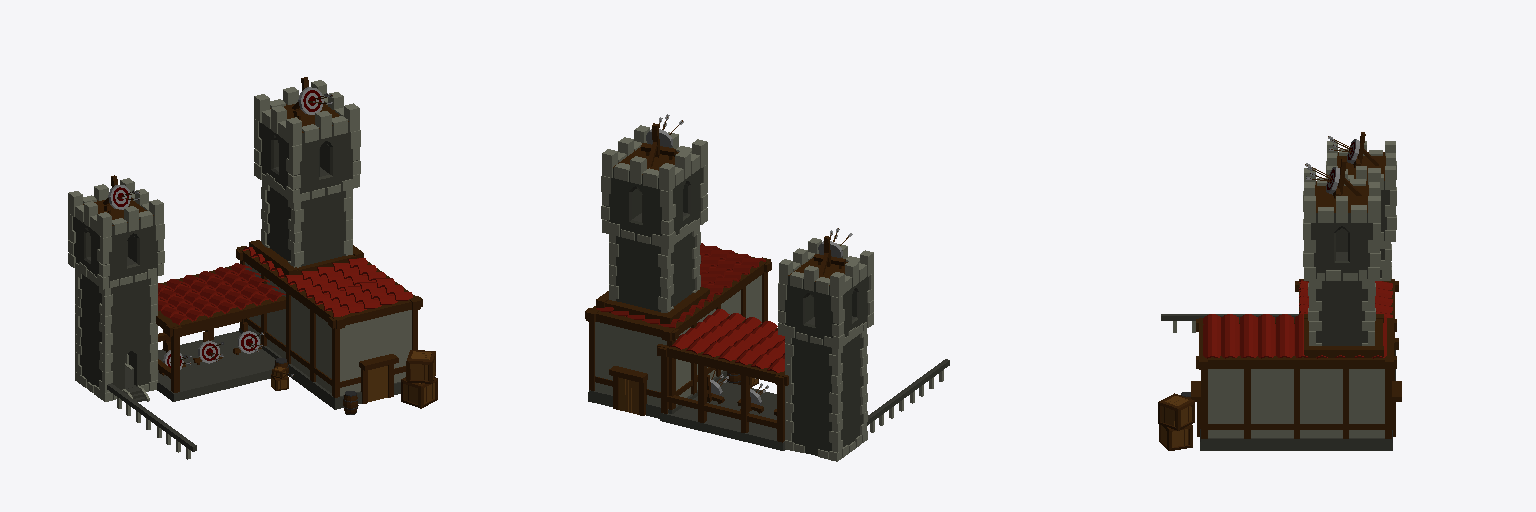
File: Archery_SecondAge_Level3_Cube.obj
The picture shows the model from 3 angles: view 1: azimuth 30°, elevation 25°; view 2: azimuth 150°, elevation 25°; view 3: azimuth 270°, elevation 25°; orthographic projection.
Parts seen in each view (by area): view 1: Archery_SecondAge_Level3_Cube.288; view 2: Archery_SecondAge_Level3_Cube.288; view 3: Archery_SecondAge_Level3_Cube.288.
Boxes of the visible parts, box(x1,y1,x2,y2) form: Archery_SecondAge_Level3_Cube.288: box(68, 77, 437, 459); Archery_SecondAge_Level3_Cube.288: box(585, 114, 949, 461); Archery_SecondAge_Level3_Cube.288: box(1158, 132, 1401, 450).
Size of the model in its own units: 1.95 by 1.95 by 1.59.